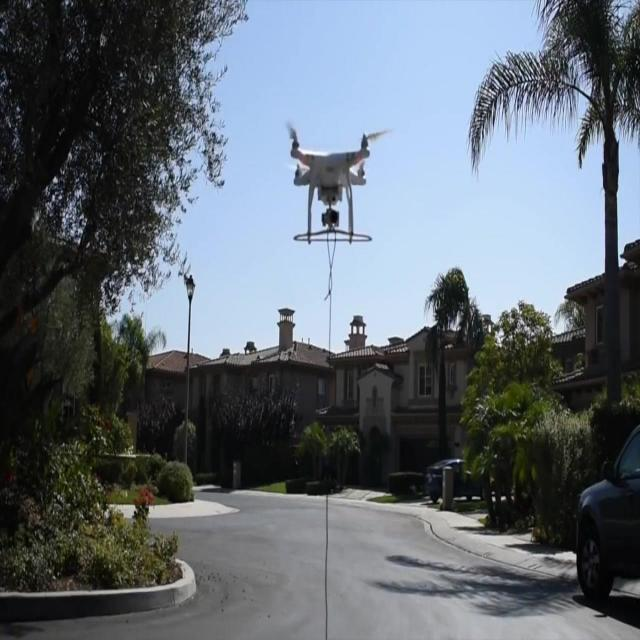UAV: (285, 120, 393, 246)
